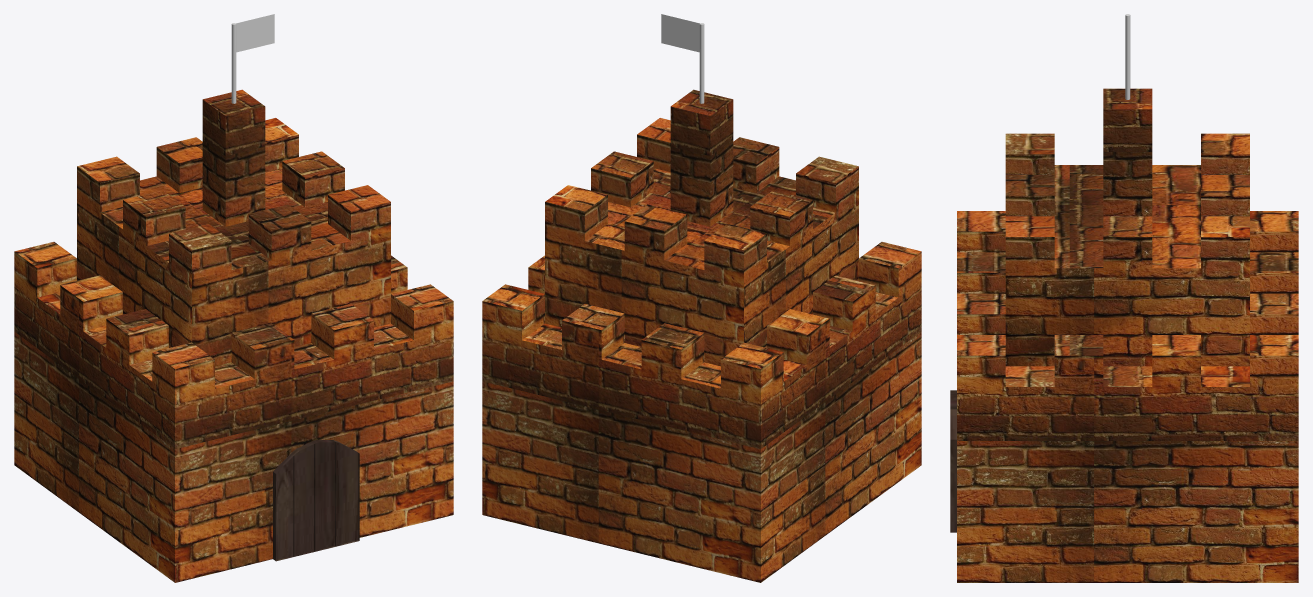
3 views of the same model, side by side, from view 1: azimuth 30°, elevation 25°; view 2: azimuth 150°, elevation 25°; view 3: azimuth 270°, elevation 25° (orthographic). The views are drawn at different scales.
Visible parts, largest first — view 1: 主堡, Plane001; view 2: 主堡, Plane001; view 3: 主堡, 旗幟.
Part boxes in pixels (x1=…): 主堡: x1=14, y1=89, x2=453, y2=582; Plane001: x1=236, y1=14, x2=274, y2=52; 主堡: x1=482, y1=89, x2=921, y2=582; Plane001: x1=661, y1=14, x2=699, y2=52; 主堡: x1=950, y1=88, x2=1298, y2=582; 旗幟: x1=1125, y1=14, x2=1130, y2=99.
Size of the model in its own units: 5 by 8 by 5.1.
2 materials, 2 textured.
